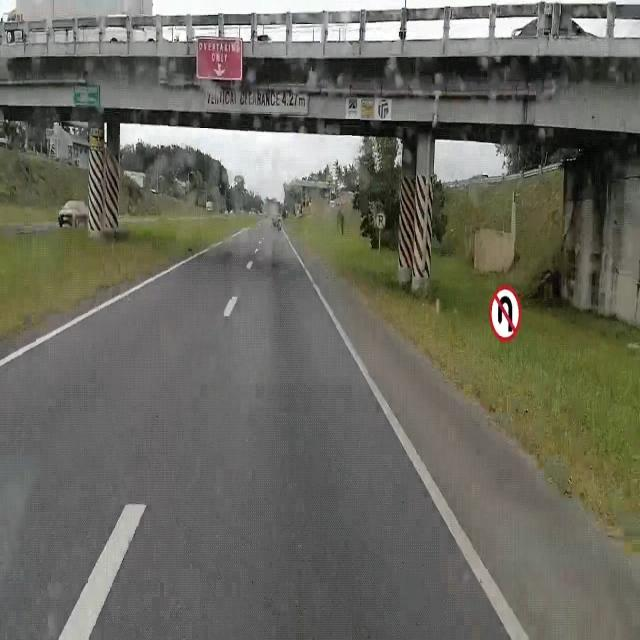Demi-Tour-Interdit: (488, 279, 524, 356)
